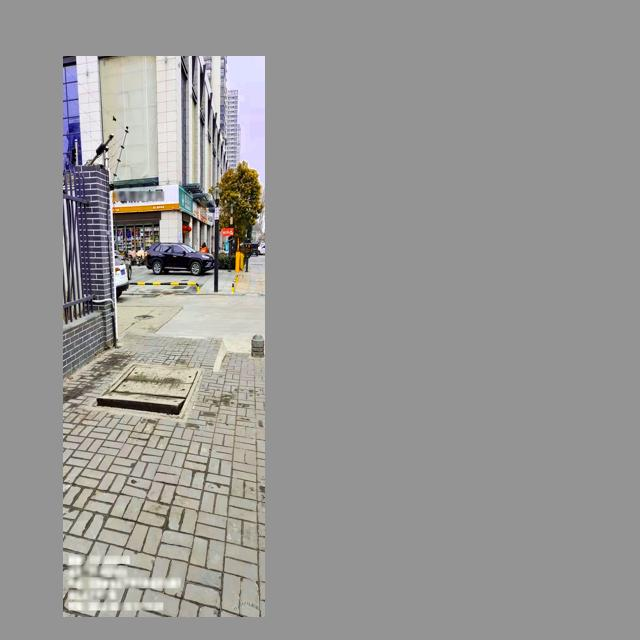uncovered: (92, 363, 201, 416)
